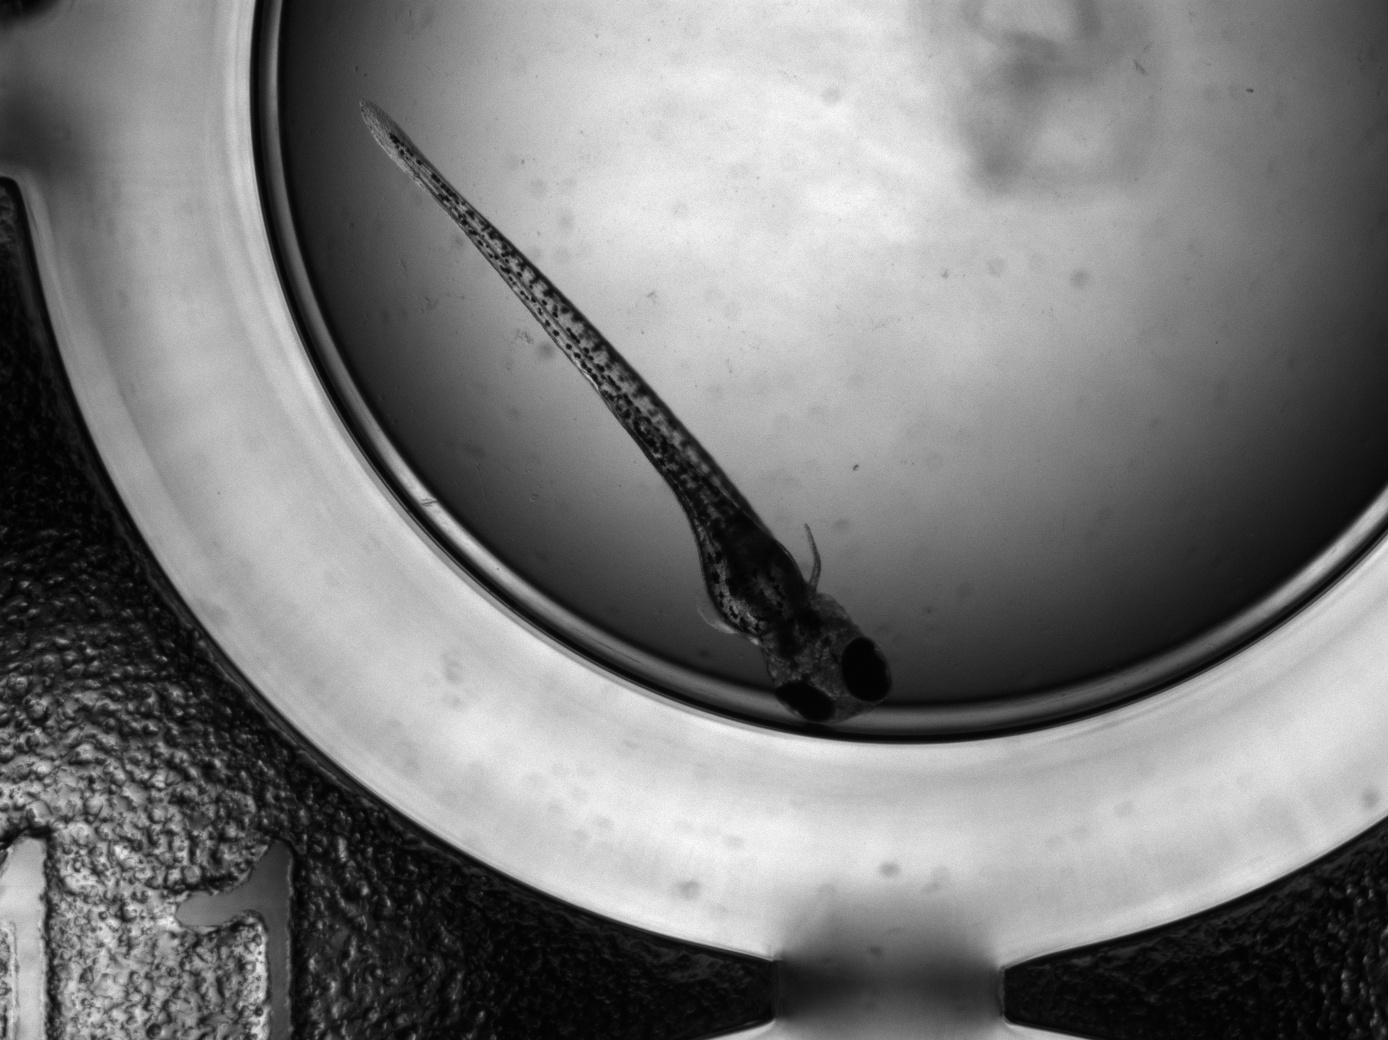embryo: (356, 97, 894, 724)
eye: (841, 637, 892, 704), (775, 682, 835, 724)
yolksac: (692, 531, 807, 638)
